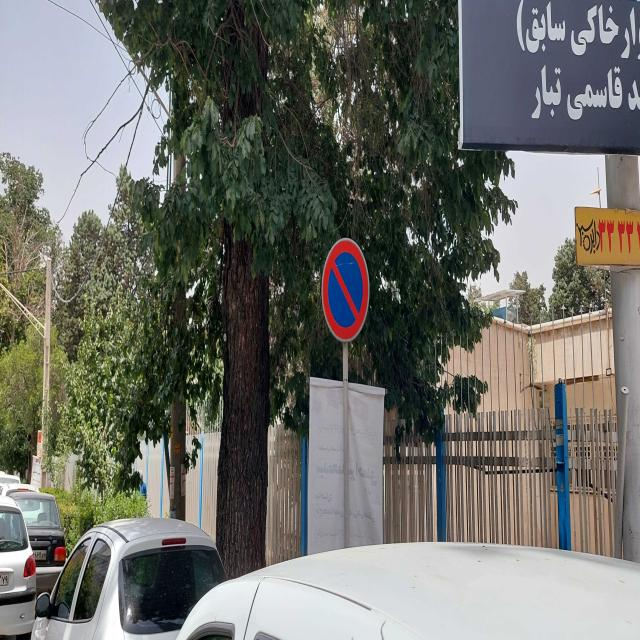forb_stopping: (319, 238, 370, 343)
